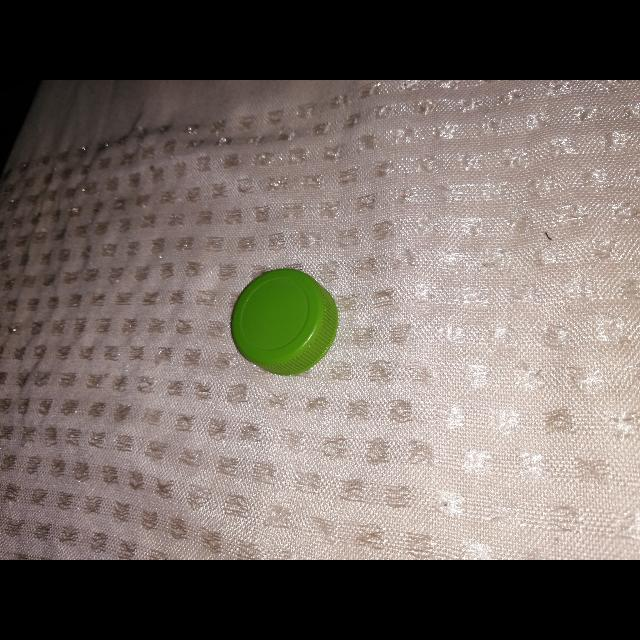plastic_bottle_cap: (231, 268, 339, 376)
